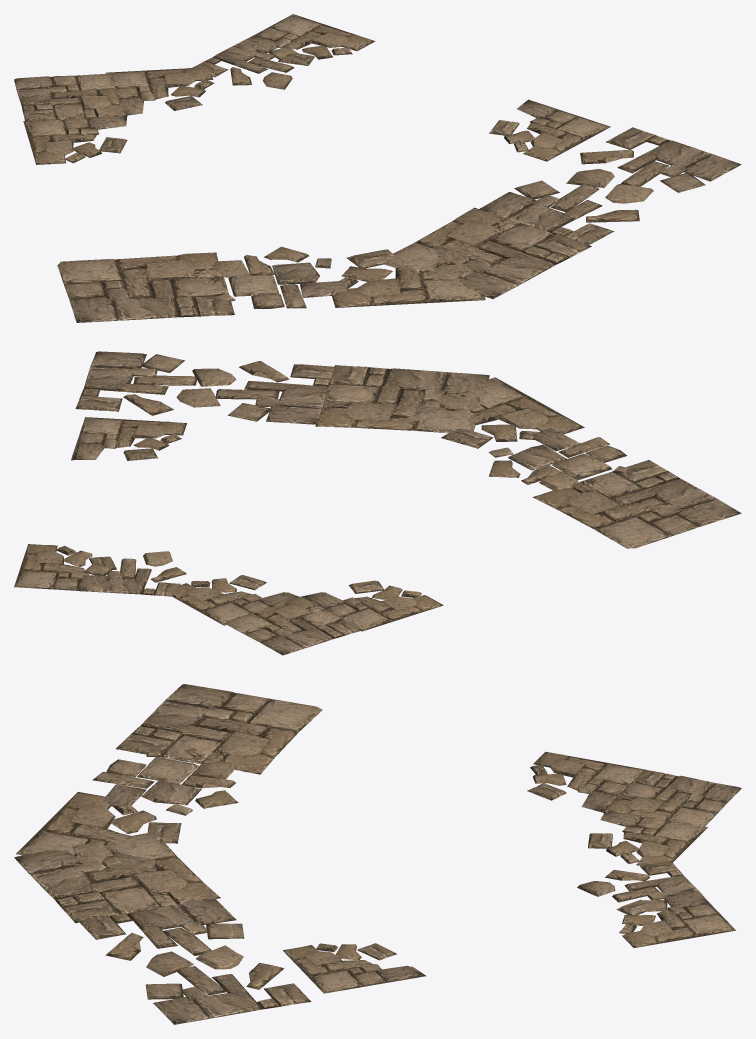
The model's file is colo3floor_saka.FBX.
3 renders of one model, top to bottom at view 1: azimuth 30°, elevation 25°; view 2: azimuth 150°, elevation 25°; view 3: azimuth 270°, elevation 25°, orthographic. The views are drawn at different scales.
Parts seen in each view (by area): view 1: colo3_floor_saka; view 2: colo3_floor_saka; view 3: colo3_floor_saka.
Boxes of the visible parts, box(x1,y1,x2,y2) form: colo3_floor_saka: box(14, 14, 741, 322); colo3_floor_saka: box(14, 351, 741, 655); colo3_floor_saka: box(14, 684, 741, 1024).
Bounding box in the file's own units: 3436 × 24.8 × 3103.
